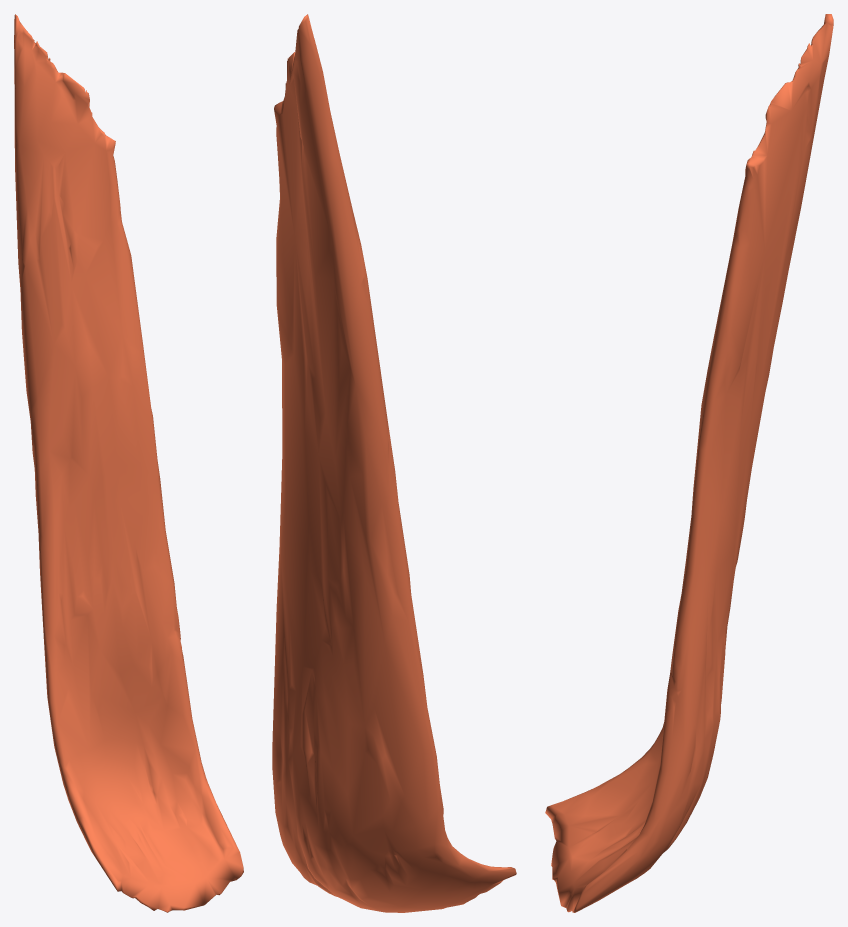
The model's file is Sternothyroid_muscle.r_Generated_Mesh_From_X3D.192.glb.
3 renders of one model, left to right at view 1: azimuth 30°, elevation 25°; view 2: azimuth 150°, elevation 25°; view 3: azimuth 270°, elevation 25°, orthographic. The views are drawn at different scales.
Visible parts, largest first — view 1: Sternothyroid_muscle.r_Generated_Mesh_From_X3D.192; view 2: Sternothyroid_muscle.r_Generated_Mesh_From_X3D.192; view 3: Sternothyroid_muscle.r_Generated_Mesh_From_X3D.192.
Boxes of the visible parts, x1,y1,x2,y2 form: Sternothyroid_muscle.r_Generated_Mesh_From_X3D.192: (14,14,243,912); Sternothyroid_muscle.r_Generated_Mesh_From_X3D.192: (272,14,516,912); Sternothyroid_muscle.r_Generated_Mesh_From_X3D.192: (545,14,833,912).
Bounding box in the file's own units: 0.0182 × 0.0988 × 0.03.
